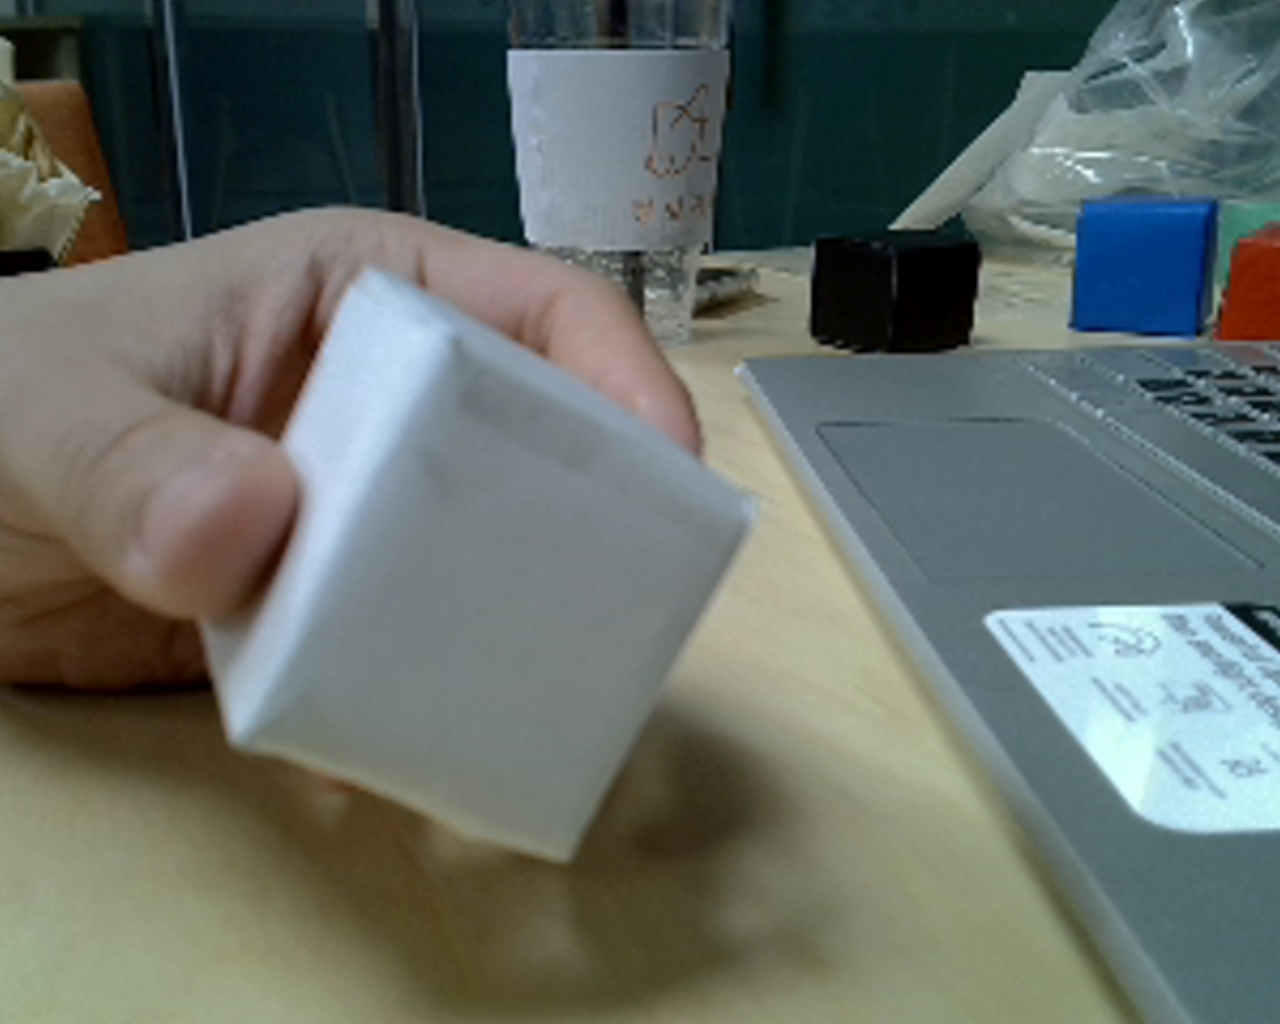whitebox: (180, 252, 768, 900)
